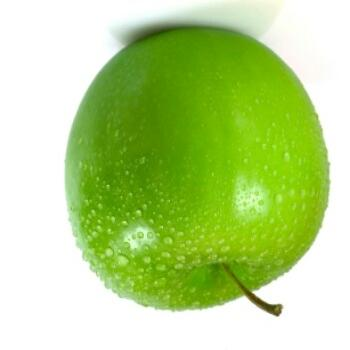apple: (0, 0, 350, 350)
